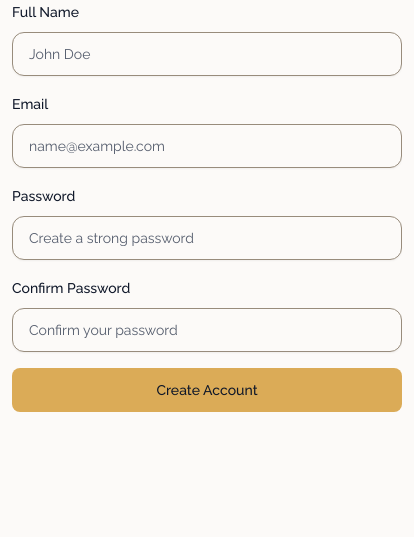
Test: SignupForm › names an outage when the action sets the typed flag
In the field labelled "Full Name": (207, 54) top-left (12, 32), bottom-right (402, 76), type "Test User"
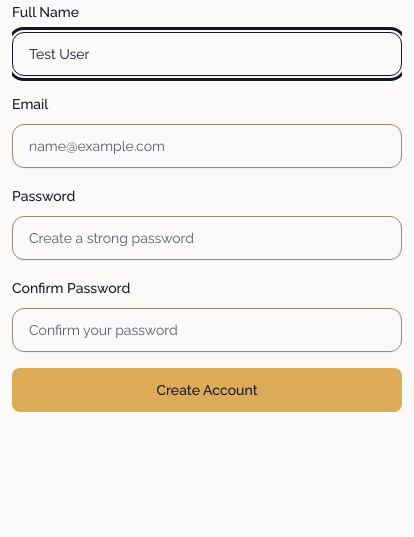
In the field labelled "Email": (207, 146) top-left (12, 124), bottom-right (402, 168), type "a@b.com"
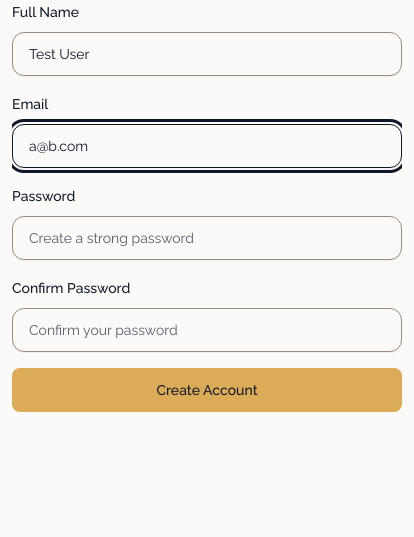
In the password field labelled "Password": (207, 238) top-left (12, 216), bottom-right (402, 260), type "ValidPass1"
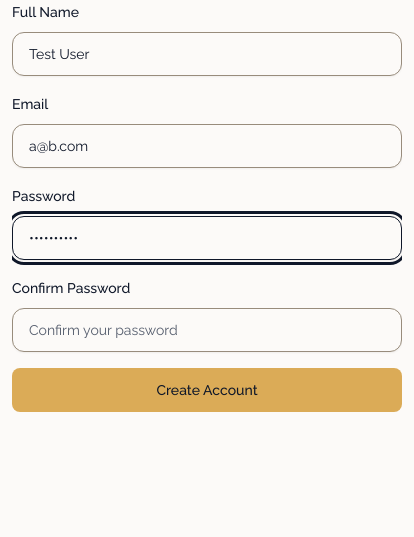
In the password field labelled "Confirm Password": (207, 330) top-left (12, 308), bottom-right (402, 352), type "ValidPass1"
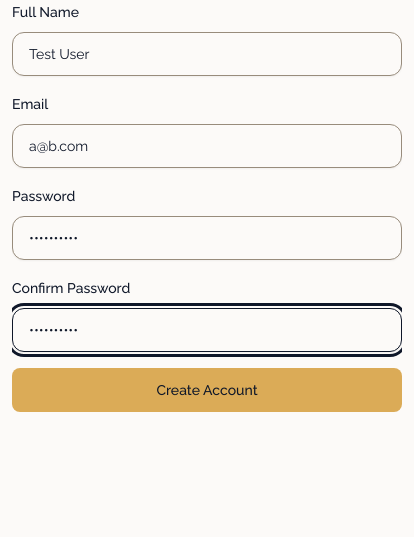
Click the button "Create Account": (207, 390) top-left (12, 368), bottom-right (402, 412)
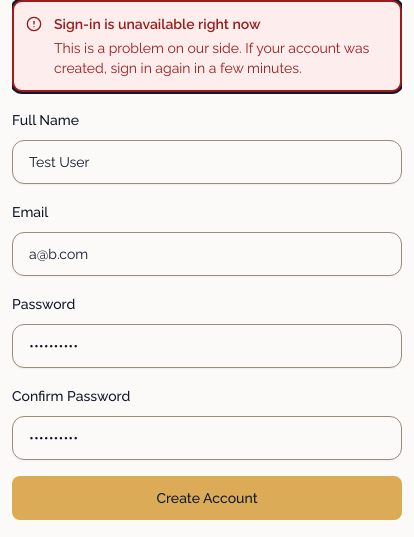
Check: the message shows "Sign-in is unavailable right now", box top-left (54, 16), bottom-right (261, 32)
